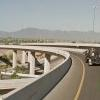Bridge: (2, 31, 83, 95)
